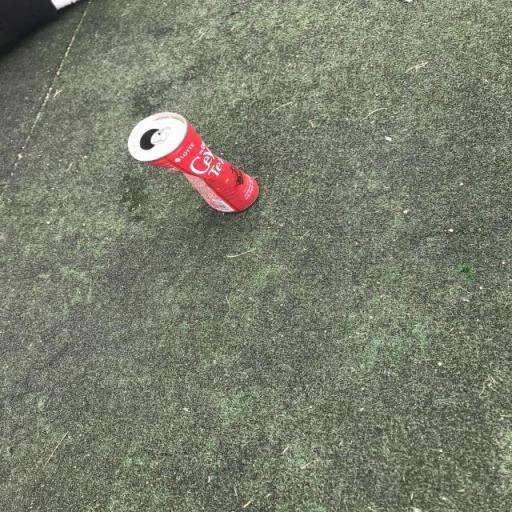metal: (112, 103, 262, 231)
